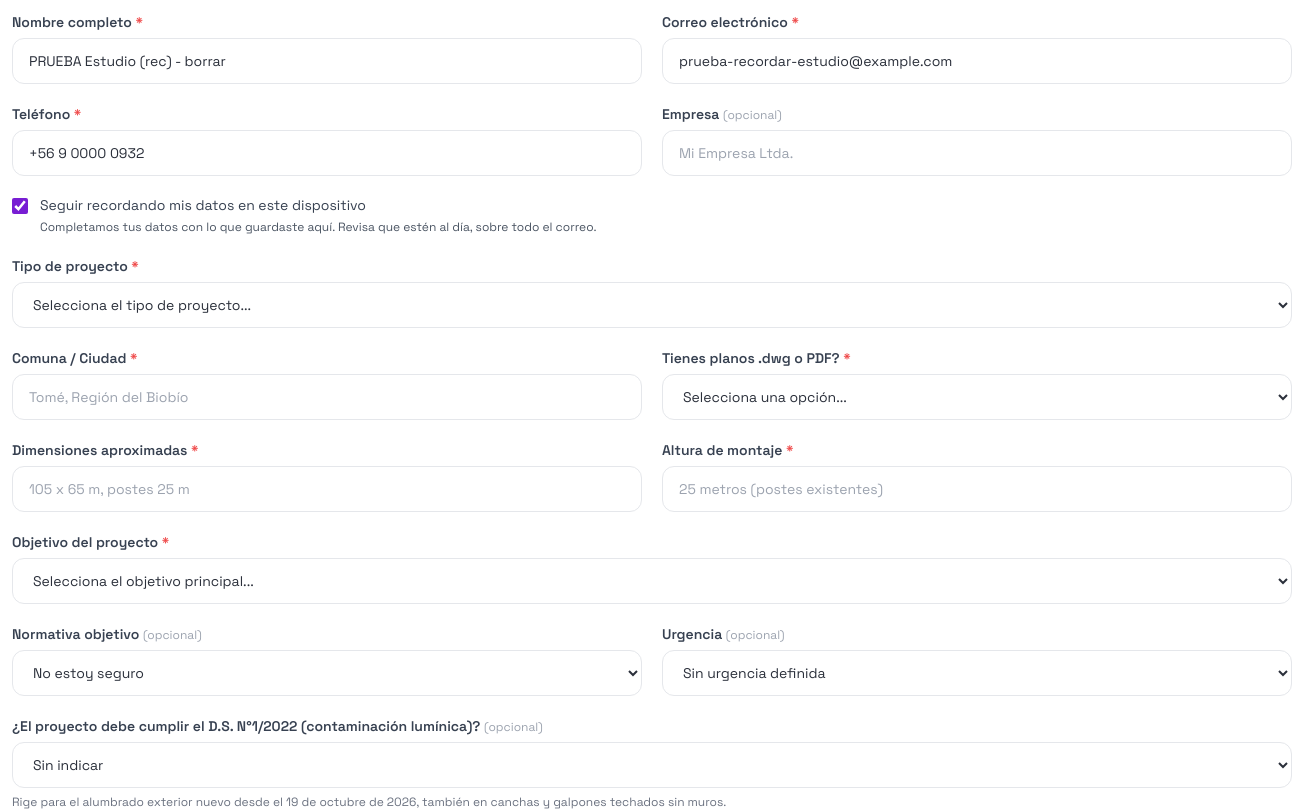
it: /estudio-luminico: recordar mis datos › cambiar el correo completado desmarca y borra, con su aviso
Expected: the field labelled "Nombre completo *" is enabled, [12,38,642,84]
Replace the text in the field labelled "Correo electrónico *" with "prueba-otra@example.com" at (977, 61), box [662,38,1292,84]
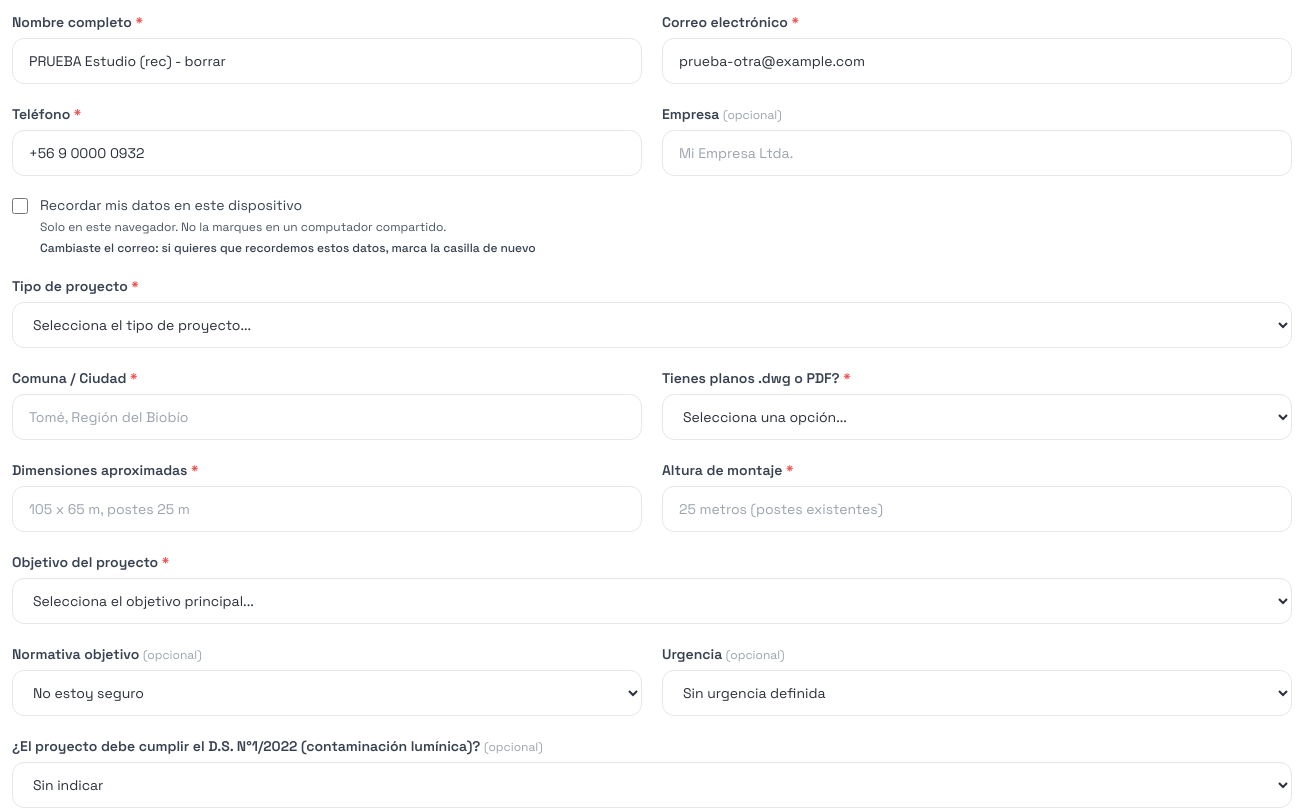
Expected: the field labelled "Teléfono *" holds "+56 9 0000 0932", [12,130,642,176]
Expected: the checkbox labelled "Recordar mis datos en este dispositivo" is not checked, [12,198,28,214]
